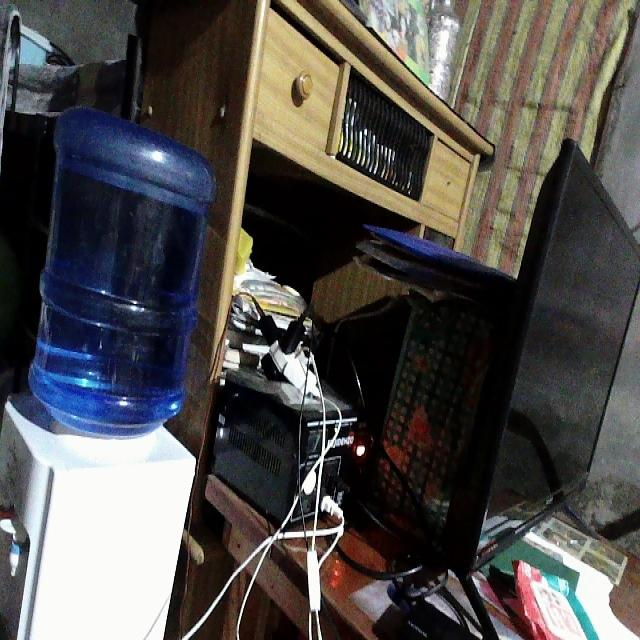-: (252, 308, 320, 396)
